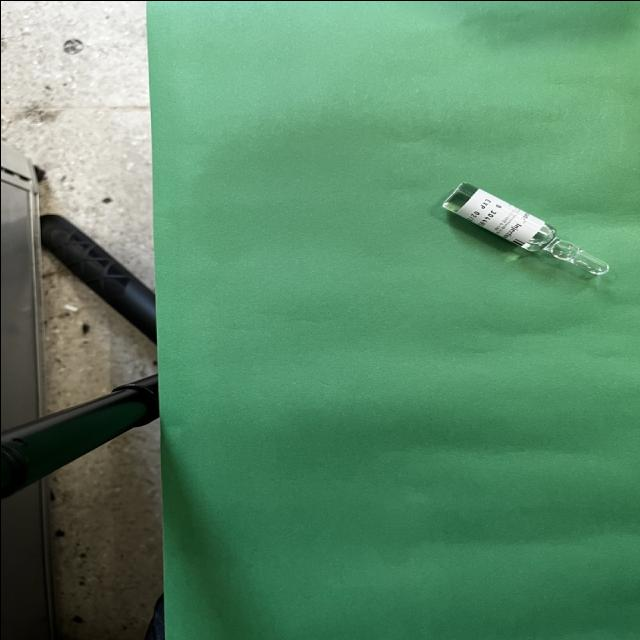Ampoules: (441, 182, 607, 276)
